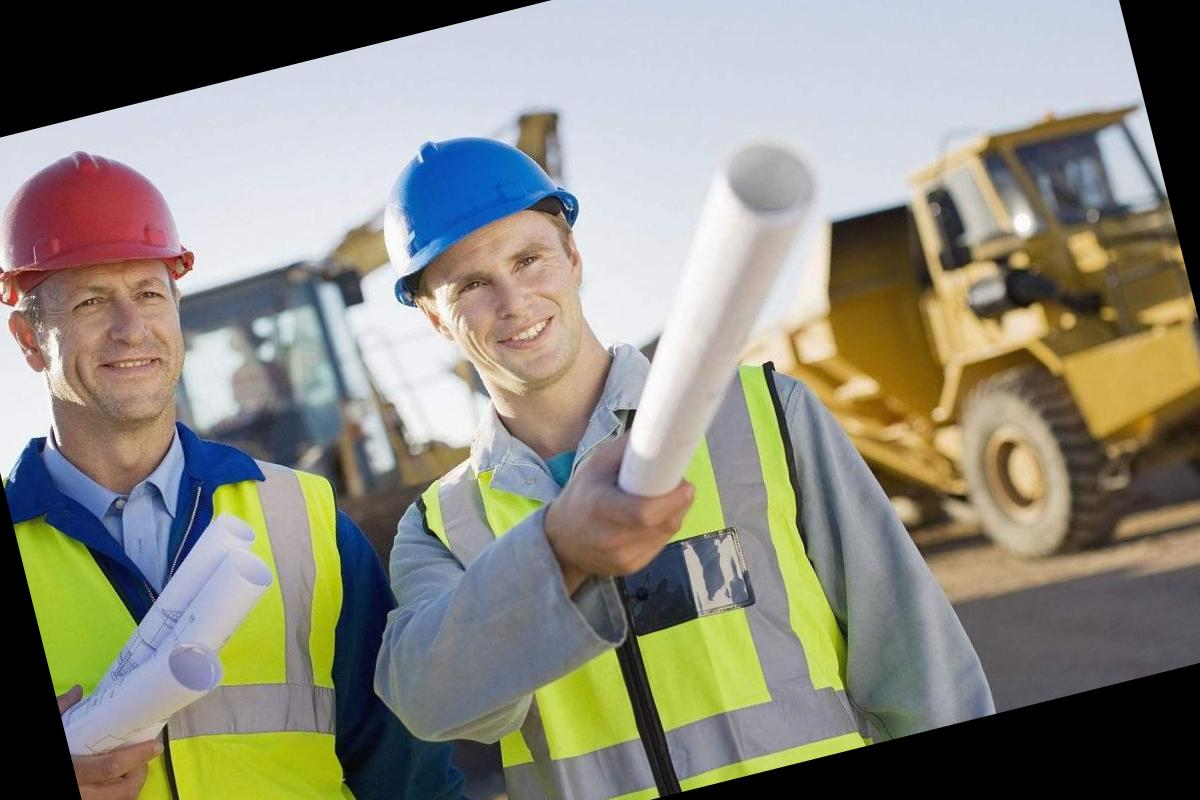Vest: (386, 318, 883, 800), (1, 378, 423, 800)
